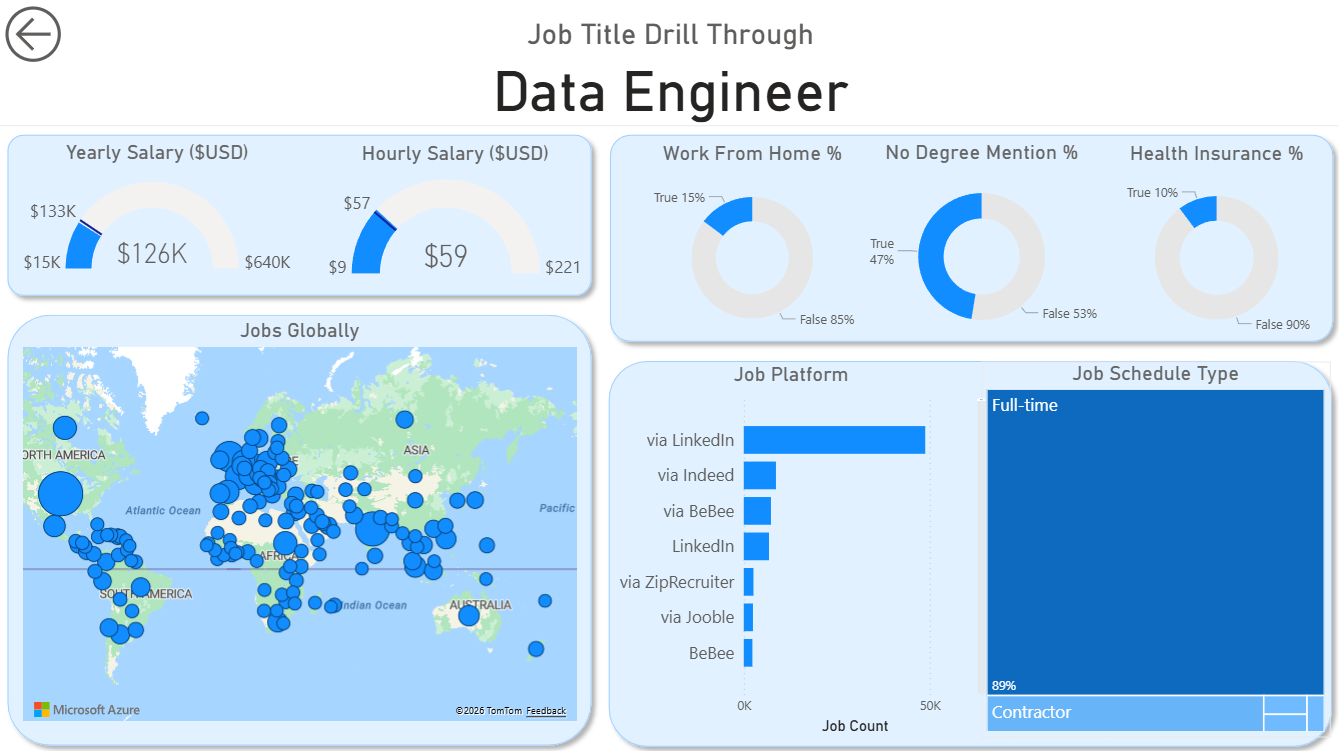

This screenshot's page, from the dashboard's own definition file:
{"tool":"powerbi","page":{"name":"Job Title Drill Through","canvas":[1280,720],"ordinal":1},"visuals":[{"type":"group","id":"g1","title":"Background","box":[0,120.4,1281,600.7],"z":0},{"type":"shape","box":[0,291.7,574.2,428.4],"z":0,"group":"g1"},{"type":"shape","box":[0,120.4,574.2,171.3],"z":1000,"group":"g1"},{"type":"donutChart","title":"Work From Home %","fields":{"Y":["CountNonNull(job_postings_flat.job_work_from_home)"],"Category":["job_postings_flat.job_work_from_home"]},"box":[615,135.9,206.2,200.2],"z":1000},{"type":"cardVisual","fields":{"Data":["Min(job_postings_flat.job_title_short)"]},"box":[245.6,0,791.8,135.4],"z":2000},{"type":"shape","box":[574.2,120.4,706.8,215.2],"z":2000,"group":"g1"},{"type":"gauge","title":"Yearly Salary ($USD)","fields":{"Y":["Median(job_postings_flat.salary_year_avg)"],"MinValue":["Min(job_postings_flat.salary_year_avg)"],"MaxValue":["Max(job_postings_flat.salary_year_avg)"],"TargetValue":["Avg(job_postings_flat.salary_year_avg)1"]},"box":[14.3,134.7,274.1,145.4],"z":3000},{"type":"shape","box":[573.2,335.6,706.8,385.5],"z":3000,"group":"g1"},{"type":"gauge","title":"Hourly Salary ($USD)","fields":{"Y":["Median(job_postings_flat.salary_hour_avg)"],"MinValue":["Min(job_postings_flat.salary_hour_avg)1"],"MaxValue":["Max(job_postings_flat.salary_hour_avg)2"],"TargetValue":["Avg(job_postings_flat.salary_hour_avg)3"]},"box":[305.1,135.9,261,145.4],"z":4000},{"type":"actionButton","box":[0,0,78.9,67],"z":5000},{"type":"donutChart","title":"No Degree Mention %","fields":{"Y":["CountNonNull(job_postings_flat.job_no_degree_mention)"],"Category":["job_postings_flat.job_no_degree_mention"]},"box":[821.2,134.7,231.2,200.2],"z":6000},{"type":"donutChart","title":"Health Insurance %","fields":{"Y":["CountNonNull(job_postings_flat.job_health_insurance)"],"Category":["job_postings_flat.job_health_insurance"]},"box":[1053.6,135.9,214.5,200.2],"z":7000},{"type":"barChart","title":"Job Platform","fields":{"Category":["job_postings_flat.job_via"],"Y":["CountNonNull(job_postings_flat.job_via)"]},"box":[566.1,346.8,380.4,359],"z":8000},{"type":"treemap","title":"Job Schedule Type","fields":{"Values":["CountNonNull(job_postings_flat.job_schedule_type)"],"Group":["job_postings_flat.job_schedule_type"]},"box":[937.3,345.8,331.5,358],"z":9000},{"type":"azureMap","title":"Jobs Globally","fields":{"Category":["job_postings_flat.job_country"],"Size":["CountNonNull(job_postings_flat.job_title_short)"]},"box":[18.5,304.4,536.9,388.1],"z":10000}]}

Visuals, with their boxes in screenshot pixels (x1, y1, x2, y2), scaled from the page's 1280x720 canvas onto the 1339x751 screenshot:
"Background" group: bbox=(0, 126, 1338, 750)
shape: bbox=(0, 304, 601, 750)
shape: bbox=(0, 126, 601, 304)
"Work From Home %" donutChart: bbox=(643, 142, 859, 351)
cardVisual - Min(job_postings_flat.job_title_short): bbox=(257, 0, 1085, 141)
shape: bbox=(601, 126, 1338, 350)
"Yearly Salary ($USD)" gauge: bbox=(15, 140, 302, 292)
shape: bbox=(600, 350, 1338, 750)
"Hourly Salary ($USD)" gauge: bbox=(319, 142, 592, 293)
actionButton: bbox=(0, 0, 83, 70)
"No Degree Mention %" donutChart: bbox=(859, 140, 1101, 349)
"Health Insurance %" donutChart: bbox=(1102, 142, 1327, 351)
"Job Platform" barChart: bbox=(592, 362, 990, 736)
"Job Schedule Type" treemap: bbox=(981, 361, 1327, 734)
"Jobs Globally" azureMap: bbox=(19, 318, 581, 722)
